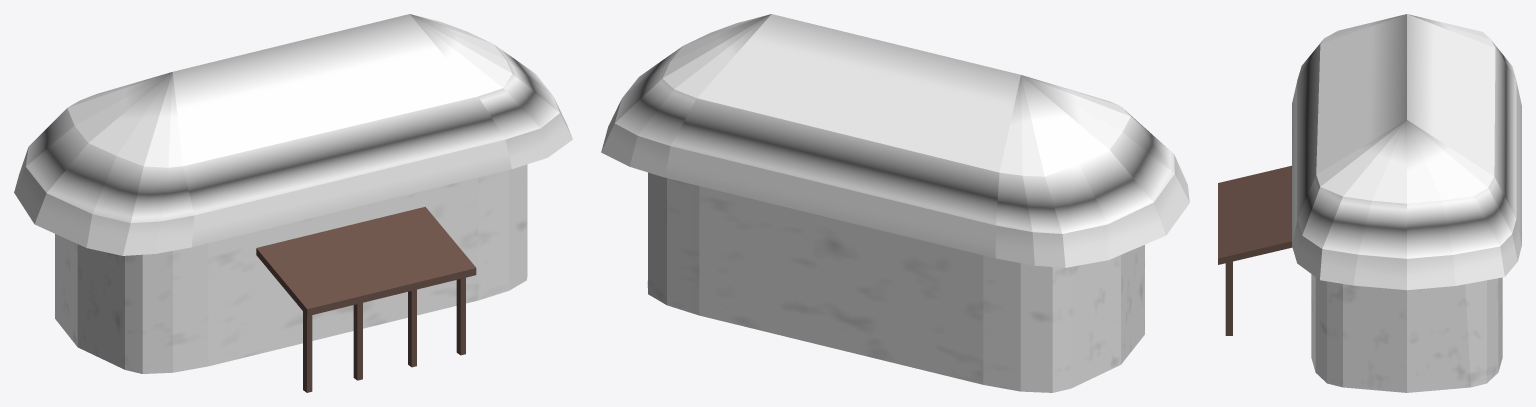
Rendered from HutC.fbx.
3 views of the same model, side by side, from view 1: azimuth 30°, elevation 25°; view 2: azimuth 150°, elevation 25°; view 3: azimuth 270°, elevation 25° (orthographic). The views are drawn at different scales.
Visible parts, largest first — view 1: HutC; view 2: HutC; view 3: HutC.
Boxes of the visible parts, left/top/right/bottom form: HutC: left=14, top=14, right=572, bottom=392; HutC: left=601, top=14, right=1189, bottom=392; HutC: left=1218, top=14, right=1521, bottom=392.
Bounding box in the file's own units: 2459 × 1178 × 1378.
